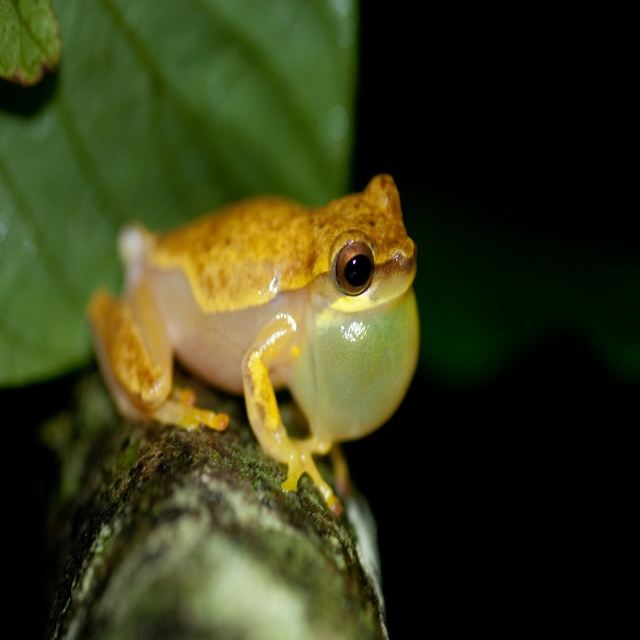Frog: (88, 172, 419, 513)
